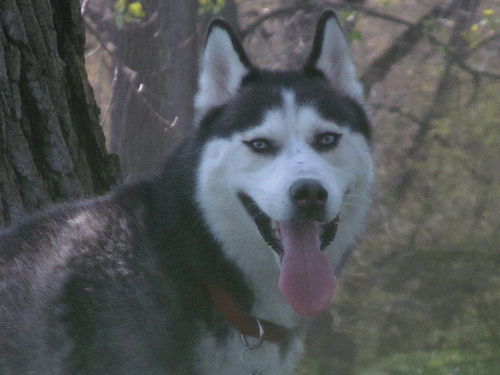dog: (0, 4, 381, 374)
